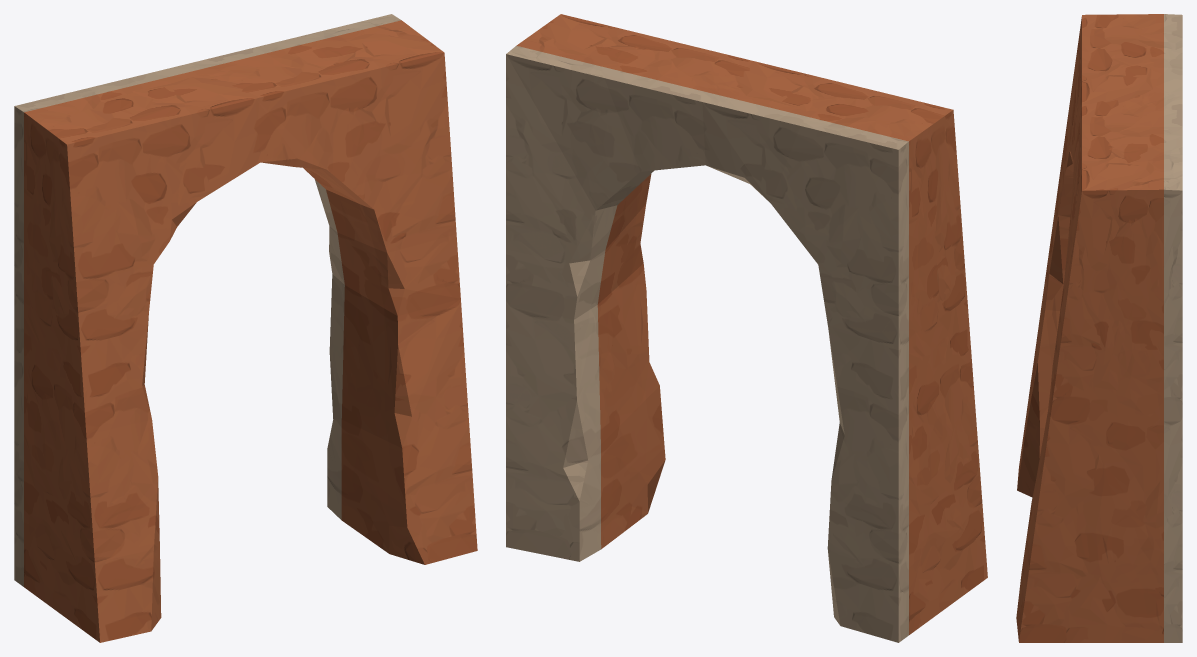
File: SM_Bld_Archway_Ground_01.fbx
3 views of the same model, side by side, from view 1: azimuth 30°, elevation 25°; view 2: azimuth 150°, elevation 25°; view 3: azimuth 270°, elevation 25° (orthographic). The views are drawn at different scales.
Visible parts, largest first — view 1: SM_Bld_Archway_Ground_01; view 2: SM_Bld_Archway_Ground_01; view 3: SM_Bld_Archway_Ground_01.
Boxes of the visible parts, box(x1,y1,x2,y2) form: SM_Bld_Archway_Ground_01: box(14, 14, 477, 642); SM_Bld_Archway_Ground_01: box(506, 14, 987, 642); SM_Bld_Archway_Ground_01: box(1016, 14, 1182, 642).
Bounding box in the file's own units: 250 × 301 × 99.96.
